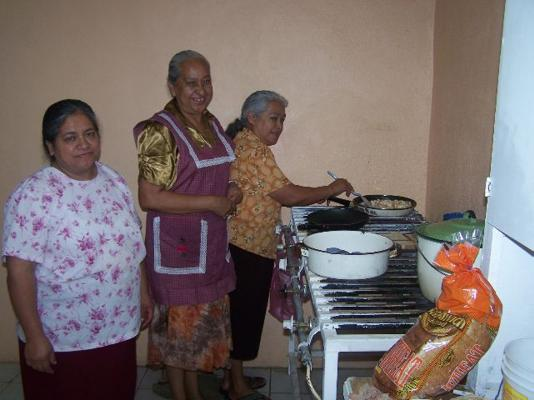person: (228, 90, 353, 400)
